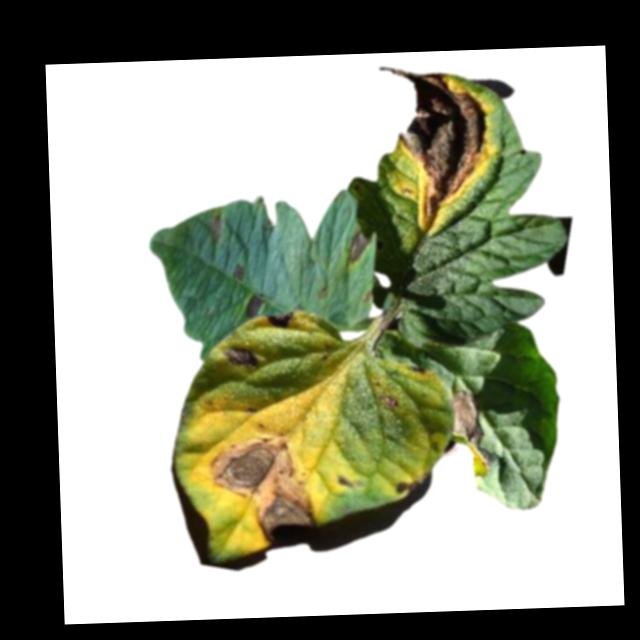Early_blight: (379, 57, 501, 232), (195, 426, 319, 549), (448, 387, 495, 479), (218, 345, 260, 368), (345, 228, 370, 263), (392, 468, 424, 495), (264, 309, 296, 331), (207, 211, 226, 246), (241, 290, 263, 318), (379, 393, 401, 411), (230, 260, 246, 282), (334, 470, 353, 488)
